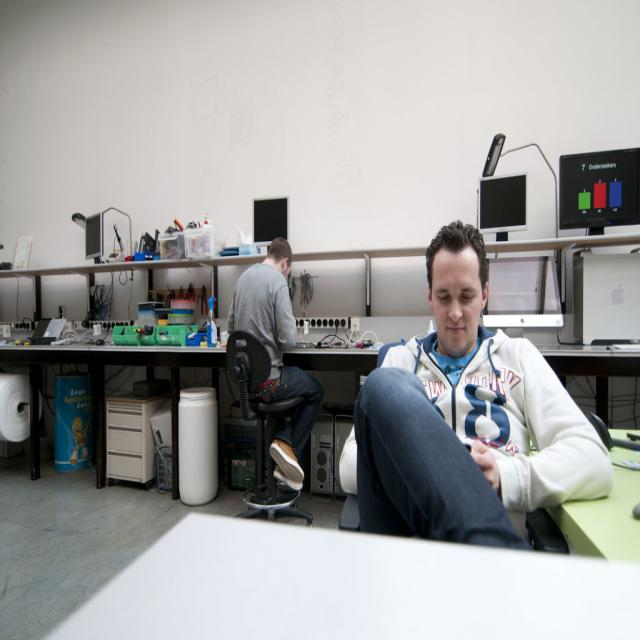chair: (228, 332, 314, 524)
desk: (0, 249, 638, 482)
laptop: (25, 316, 66, 344)
person: (355, 219, 614, 551), (226, 236, 325, 496)
tv: (557, 147, 640, 234)
